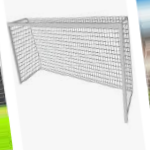goals: (7, 10, 136, 125)
